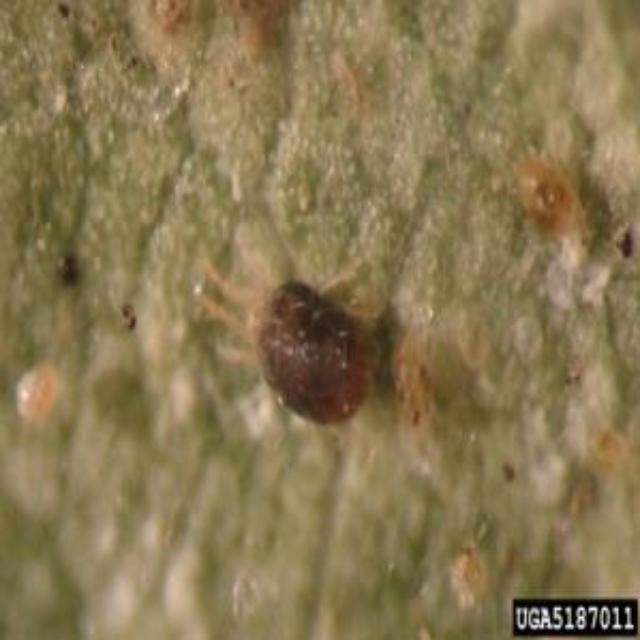spider mite: (183, 216, 414, 467), (511, 154, 584, 232)
